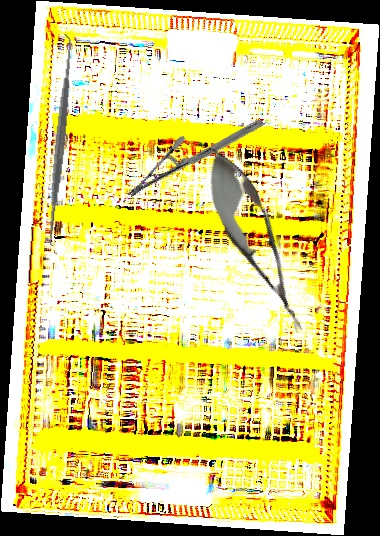Micro Scissor: (188, 137, 325, 345)
Needle Holder: (125, 80, 266, 237)
Spatula Surgical: (36, 33, 84, 247)
